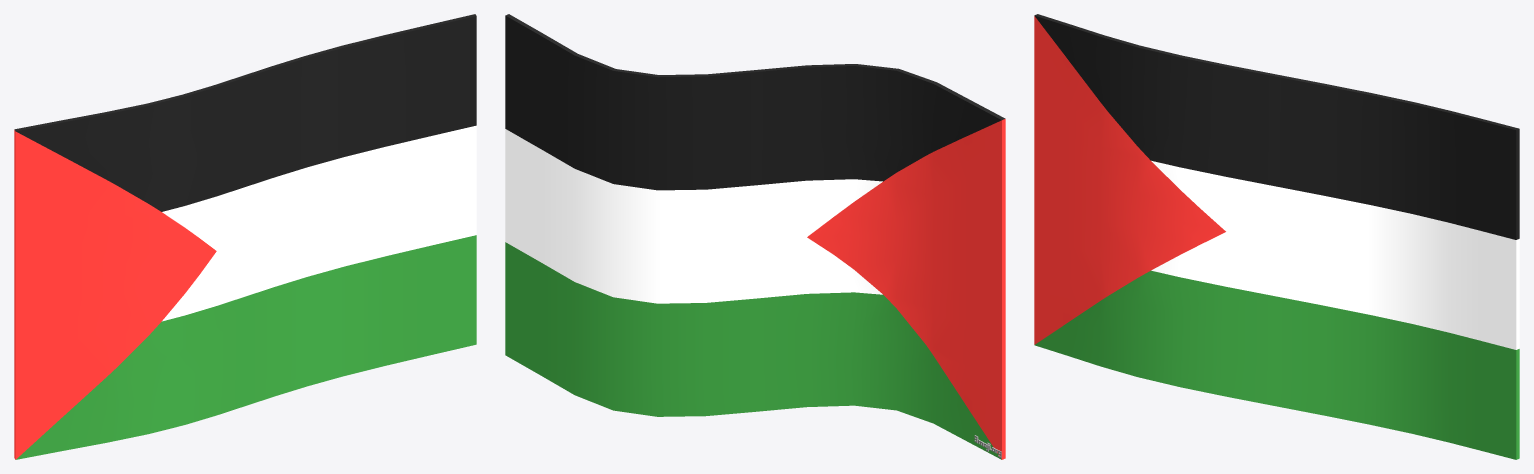
File: flag_palestinian_territories.glb
The picture shows the model from 3 angles, left to right: view 1: azimuth 30°, elevation 25°; view 2: azimuth 150°, elevation 25°; view 3: azimuth 330°, elevation 25°; orthographic projection. The views are drawn at different scales.
Parts seen in each view (by area): view 1: flag_palestinian_territories; view 2: flag_palestinian_territories; view 3: flag_palestinian_territories.
Boxes of the visible parts, left/top/right/bottom form: flag_palestinian_territories: left=14, top=14, right=476, bottom=459; flag_palestinian_territories: left=505, top=14, right=1005, bottom=459; flag_palestinian_territories: left=1034, top=14, right=1519, bottom=459.
Size of the model in its own units: 2.18 by 1.58 by 0.3373.
1 material, 1 textured.
